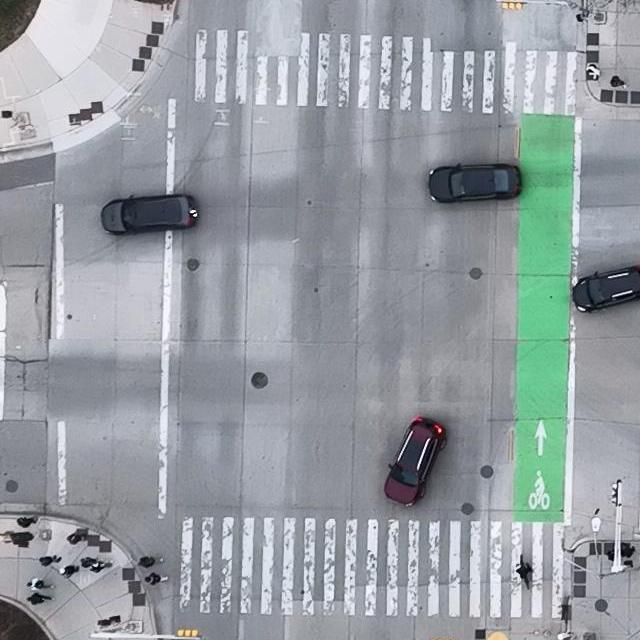car: (384, 415, 446, 507), (100, 191, 198, 235), (428, 160, 524, 204), (572, 264, 640, 314)
